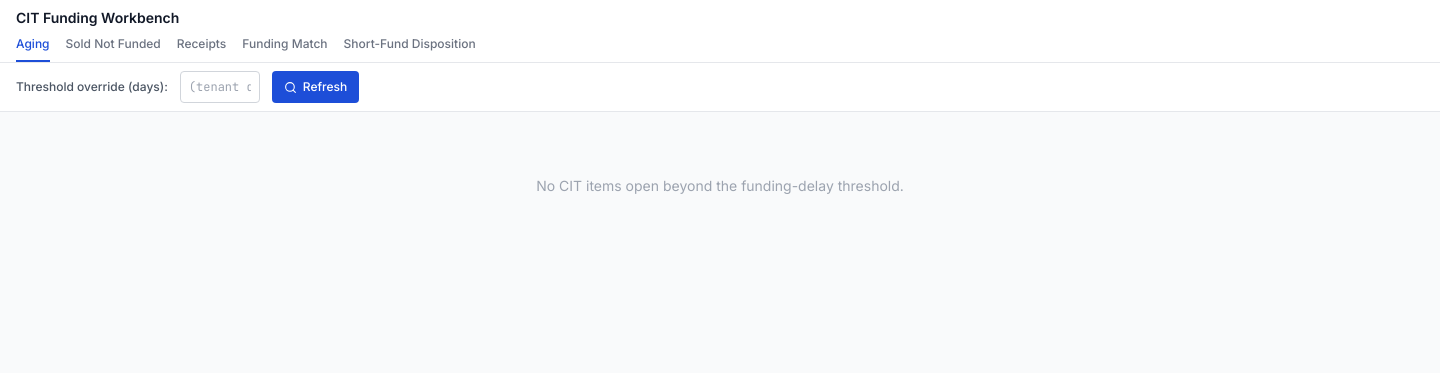
CitFundingWorkbench — Short-Fund Disposition tab › lists short-funded receipts pending disposition from the real tenant-wide list
The width and height of the screenshot is (1440, 373).
What coordinates should you click on to do the following:
click the button with test id "cit-tab-shortfund"
I would click on:
 (410, 49)
Its box is [344,36,476,62].
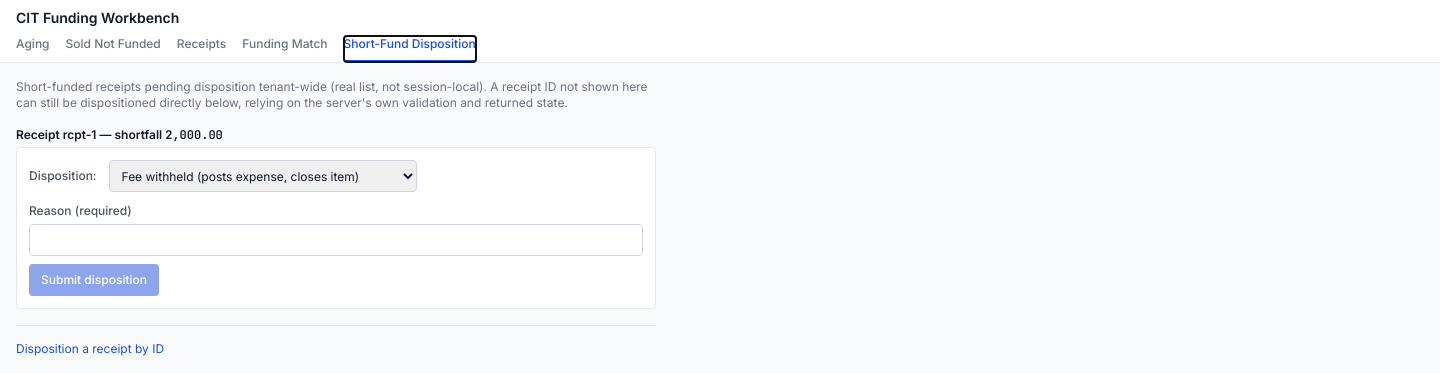
Now the element with test id "short-fund-row-rcpt-1" is shown, box [16,127,656,309]
